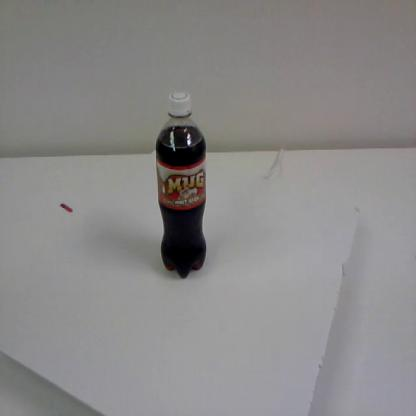bottle: (154, 88, 209, 281)
